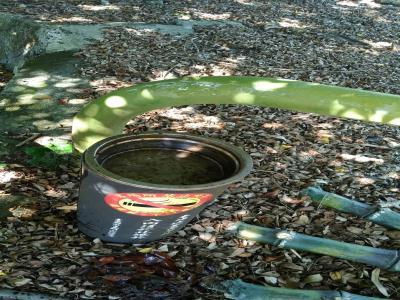bucket: (71, 128, 256, 249)
